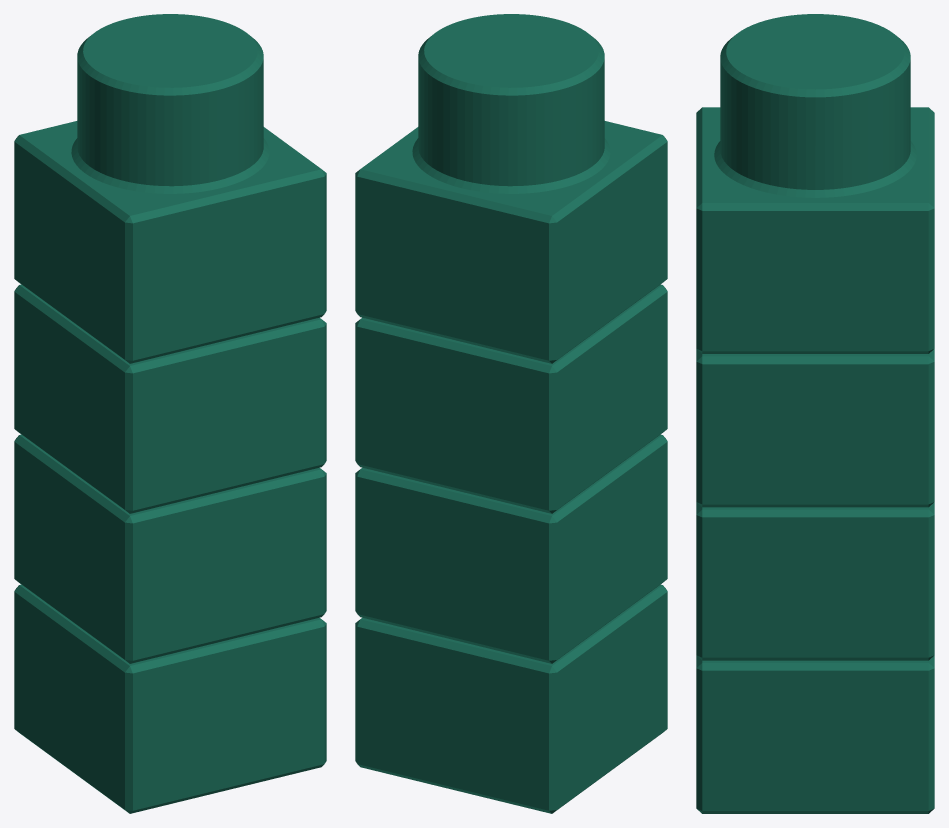
The model's file is green.glb.
3 views of the same model, side by side, from view 1: azimuth 30°, elevation 25°; view 2: azimuth 150°, elevation 25°; view 3: azimuth 270°, elevation 25° (orthographic). The views are drawn at different scales.
Visible parts, largest first — view 1: Cube.001; view 2: Cube.001; view 3: Cube.001.
Part boxes in pixels (left/top/right/bottom): Cube.001: left=14, top=14, right=326, bottom=813; Cube.001: left=355, top=14, right=667, bottom=813; Cube.001: left=696, top=14, right=934, bottom=813.
Bounding box in the file's own units: 1 × 3.31 × 1.
